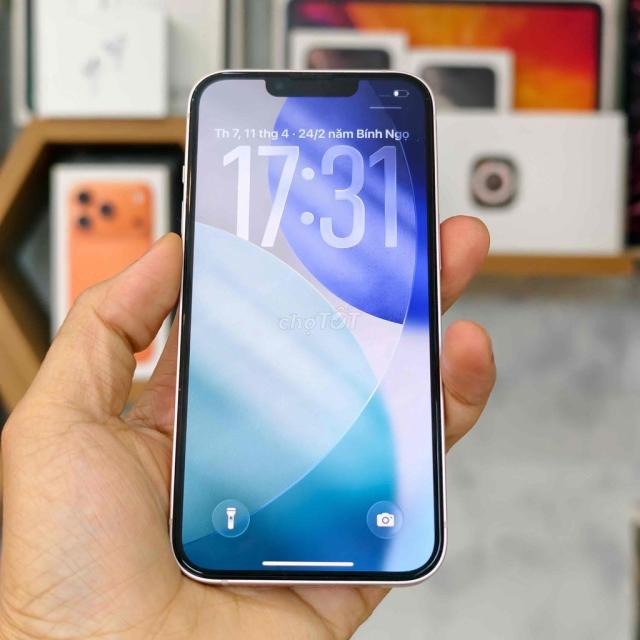gen_12_13: (167, 61, 452, 584)
